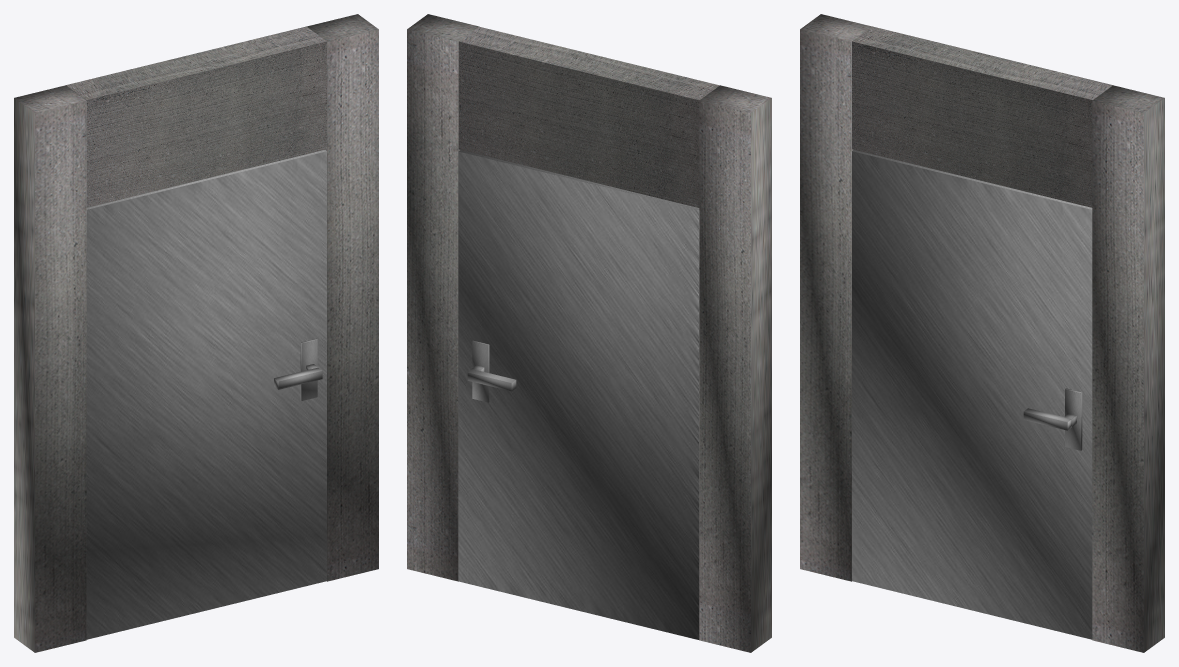
File: metaldoor_000001.obj
3 renders of one model, left to right at view 1: azimuth 30°, elevation 25°; view 2: azimuth 150°, elevation 25°; view 3: azimuth 330°, elevation 25°, orthographic.
Visible parts, largest first — view 1: Cube.004_Cube.005, Cube.006_Cube.007; view 2: Cube.004_Cube.005, Cube.006_Cube.007; view 3: Cube.004_Cube.005, Cube.006_Cube.007.
Part boxes in pixels (x1,y1,x2,y2): Cube.004_Cube.005: [86, 150, 326, 639]; Cube.006_Cube.007: [14, 14, 378, 652]; Cube.004_Cube.005: [458, 150, 699, 639]; Cube.006_Cube.007: [407, 14, 771, 652]; Cube.004_Cube.005: [852, 150, 1092, 639]; Cube.006_Cube.007: [800, 14, 1164, 652].
Size of the model in its own units: 2 by 3 by 0.4125.
